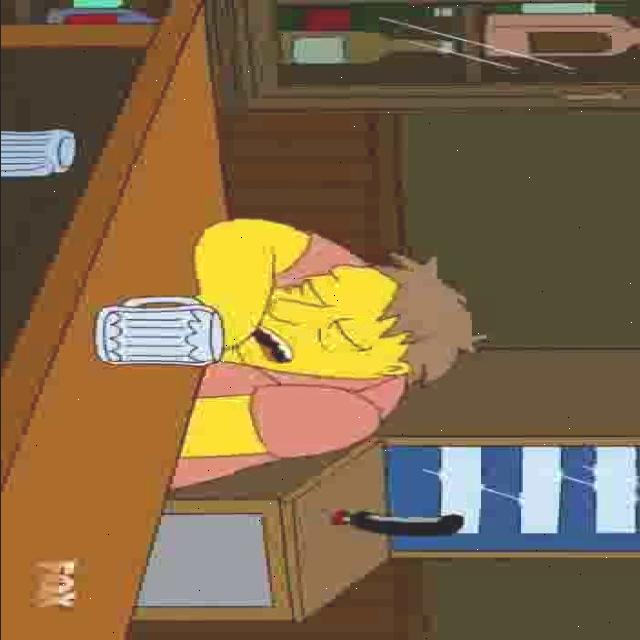Barney Gumble: (230, 251, 486, 389)
